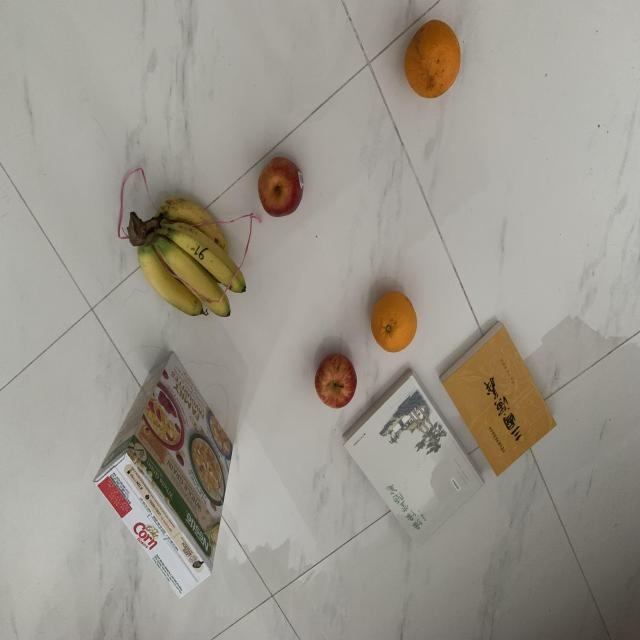Apple: (253, 155, 309, 221), (312, 349, 361, 411)
Banana: (124, 182, 248, 321), (401, 14, 466, 100), (366, 290, 420, 357)
Book: (340, 367, 490, 553), (437, 319, 557, 479)
Cerealbox: (89, 335, 237, 609)
